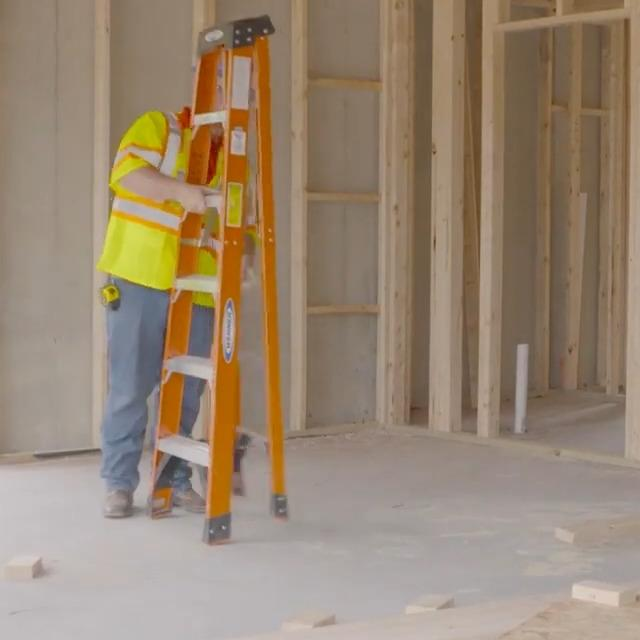Hardhat: (189, 49, 255, 102)
Ladder: (148, 16, 292, 546)
Person: (97, 50, 258, 520)
Safety Vest: (97, 109, 258, 309)
